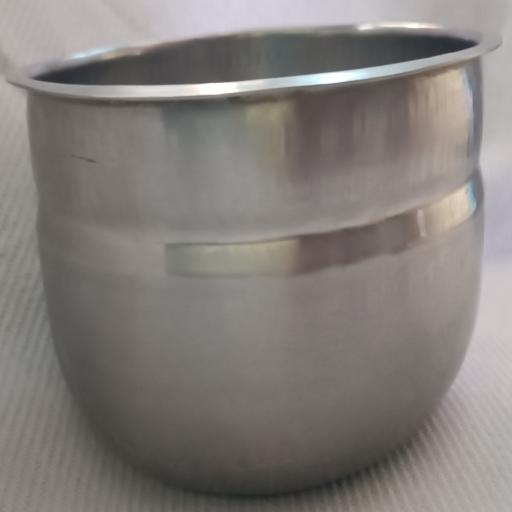vessel: (11, 24, 499, 493)
